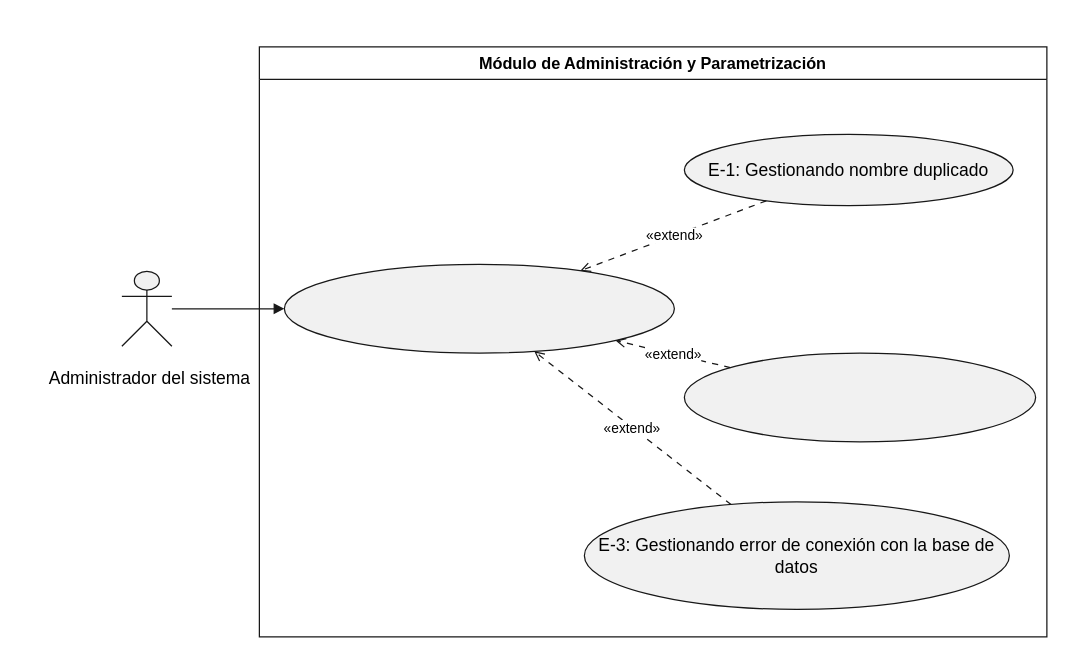
This 1069x659 diagram has some shape labels left out. The shapes that lost their labels are listed below. From the top down, each one's box as (x1, y1, x2, y2) in pixels, then its label:
(283, 263, 674, 353): CU-04: Configurando categorías de problemas
(683, 352, 1036, 442): E-2: Gestionando categoría con tickets activos
